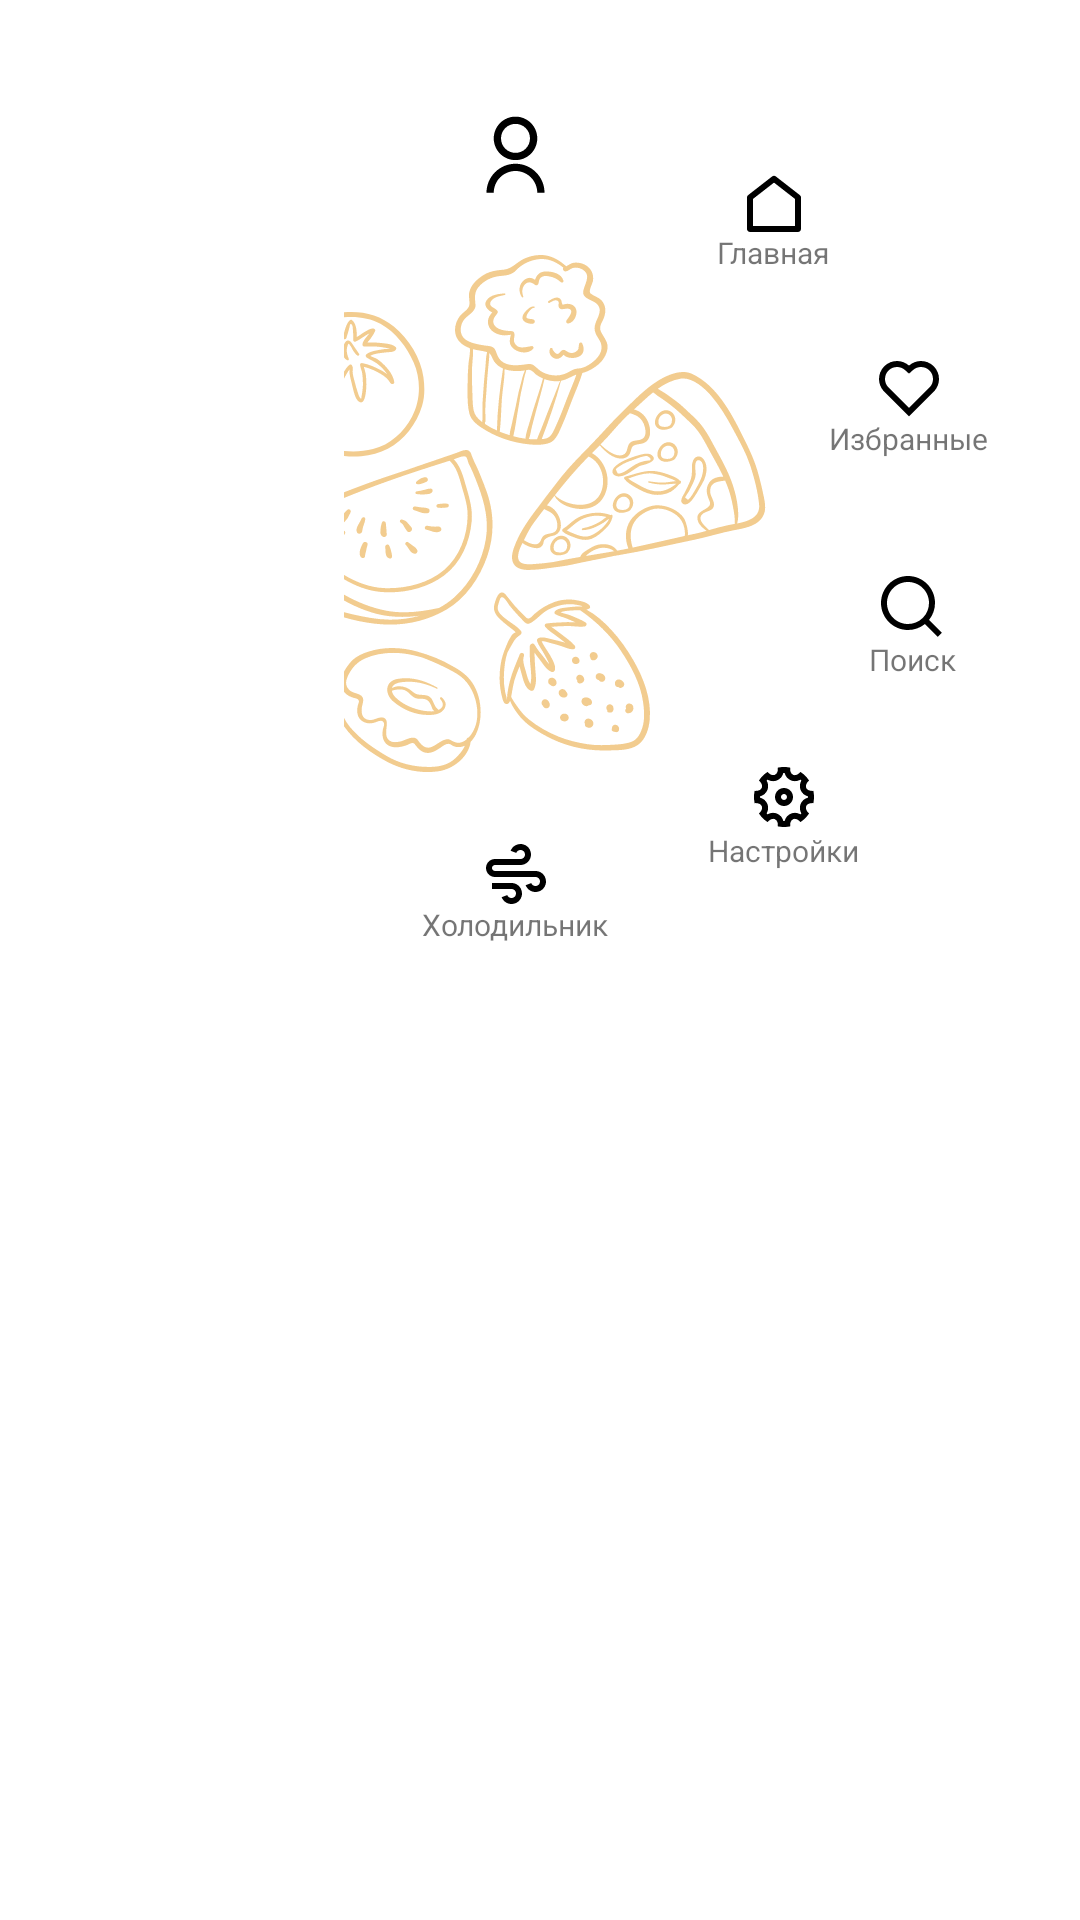

Where icons sit on this 1080 x 1920 app screen, as (x1, y1, x2, y2):
user: (486, 116, 545, 193)
weather: (486, 844, 546, 904)
